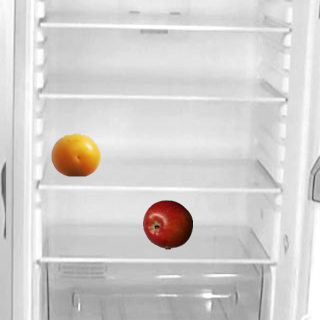Apple Braeburn: (142, 199, 192, 249)
Cherry Wax Yellow: (50, 129, 100, 179)
